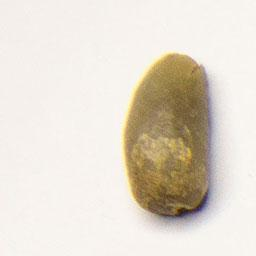longberry: (118, 48, 214, 220)
